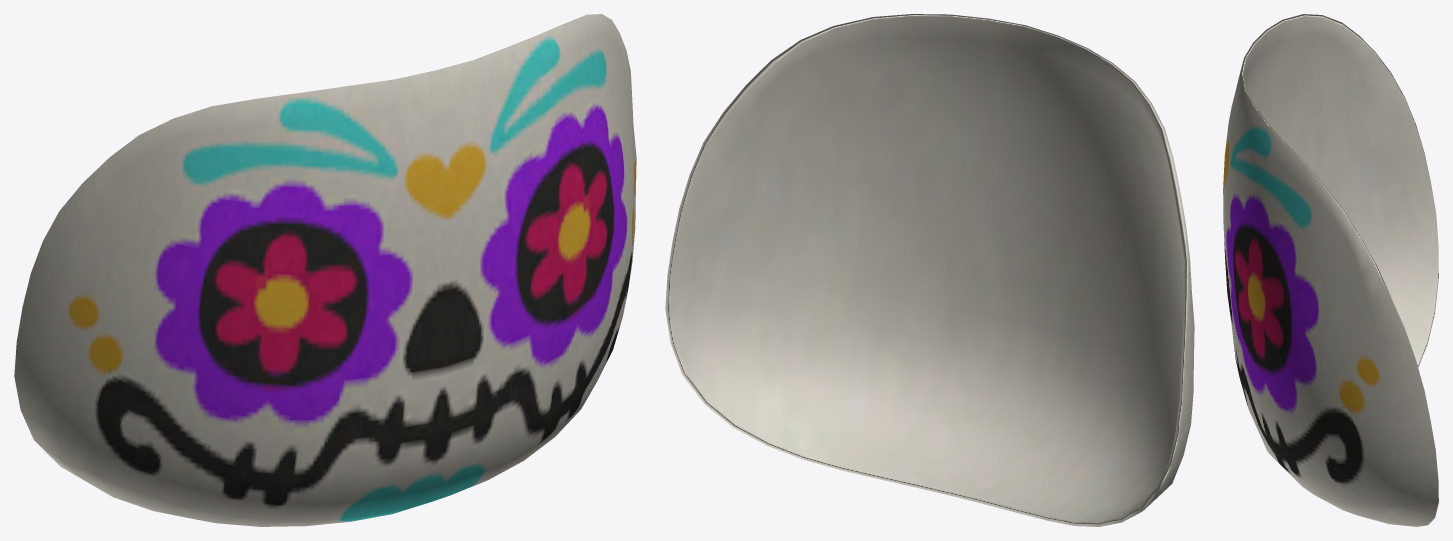
Rendered from AccessoryGlassmouthCatrina0.glb.
3 renders of one model, left to right at view 1: azimuth 30°, elevation 25°; view 2: azimuth 150°, elevation 25°; view 3: azimuth 270°, elevation 25°, orthographic. The views are drawn at different scales.
Parts seen in each view (by area): view 1: Accessory__mAccessory; view 2: Accessory__mAccessory; view 3: Accessory__mAccessory.
Part boxes in pixels (x1,y1,x2,y2): Accessory__mAccessory: (14,14,636,526); Accessory__mAccessory: (665,14,1194,526); Accessory__mAccessory: (1223,14,1438,526).
Bounding box in the file's own units: 6.3 × 4.87 × 2.38.
1 material, 1 textured.
